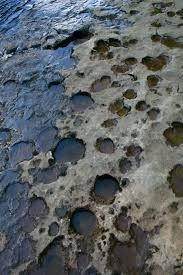pothole: (0, 40, 85, 165), (0, 0, 140, 37), (0, 190, 58, 263), (110, 208, 165, 274), (53, 128, 95, 169), (63, 196, 100, 235), (160, 156, 183, 203), (91, 175, 120, 207), (112, 50, 140, 78), (138, 96, 166, 122), (95, 133, 121, 156), (168, 116, 183, 153), (72, 88, 100, 107), (147, 50, 169, 74), (150, 30, 175, 50), (112, 95, 131, 120), (148, 7, 179, 22), (124, 143, 138, 159), (121, 90, 137, 101)
